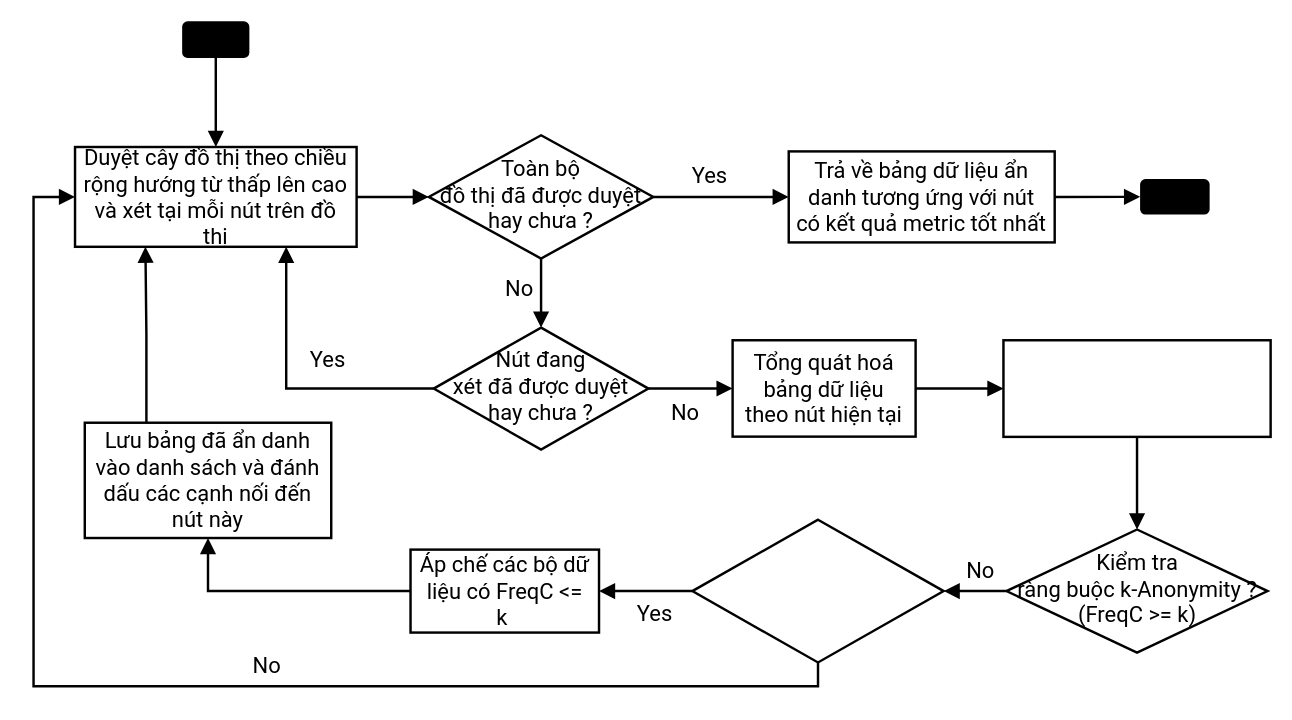
This 1292x720 diagram has some shape labels left out. The shapes that lost their labels are listed below. From the top down, each one's box as (x1, y1, x2, y2) in pixels, then its label:
(182, 21, 249, 57): Start
(1139, 178, 1209, 214): End
(1002, 338, 1271, 437): Tính kích thước EQ (FreqC) của bảng đối với các thuộc tính có ở nút hiện tại
(691, 518, 944, 663): Bảng dữ liệu có đủ điều kiện áp chế ? (FreqC <= k)
